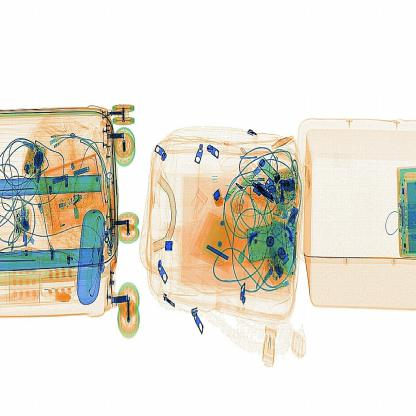wrench: (208, 182, 226, 214)
